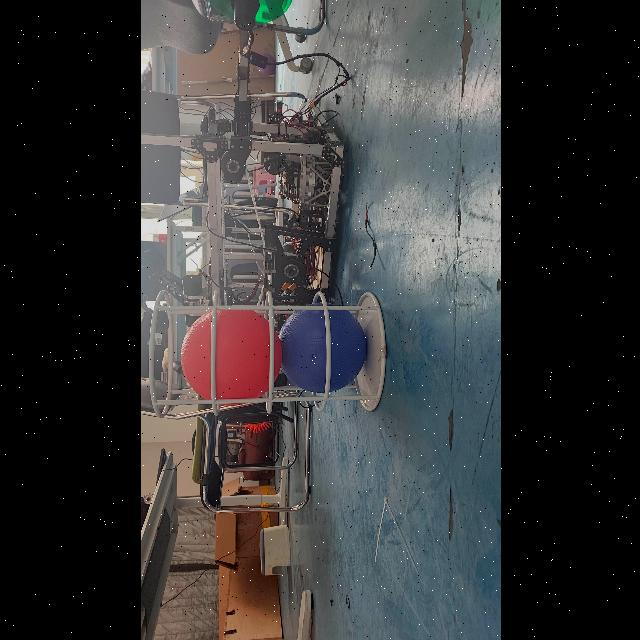B: (276, 302, 366, 396)
R: (178, 306, 282, 406)
S: (146, 284, 390, 424)
